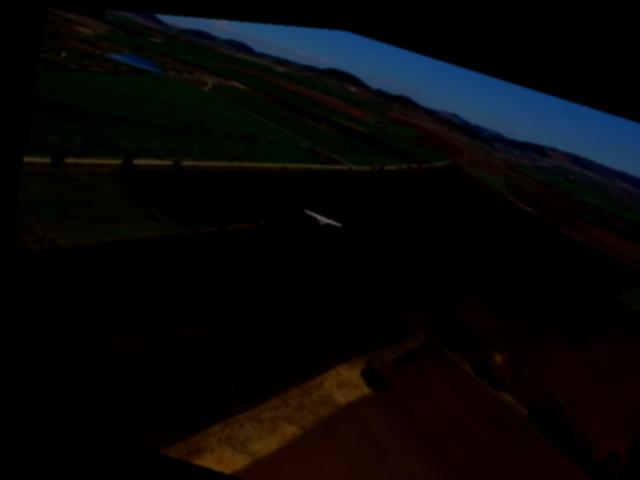uav: (293, 192, 349, 233)
